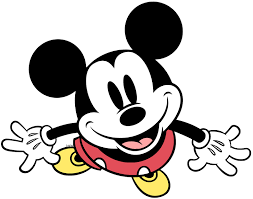mickeymouse: (10, 18, 234, 180)
